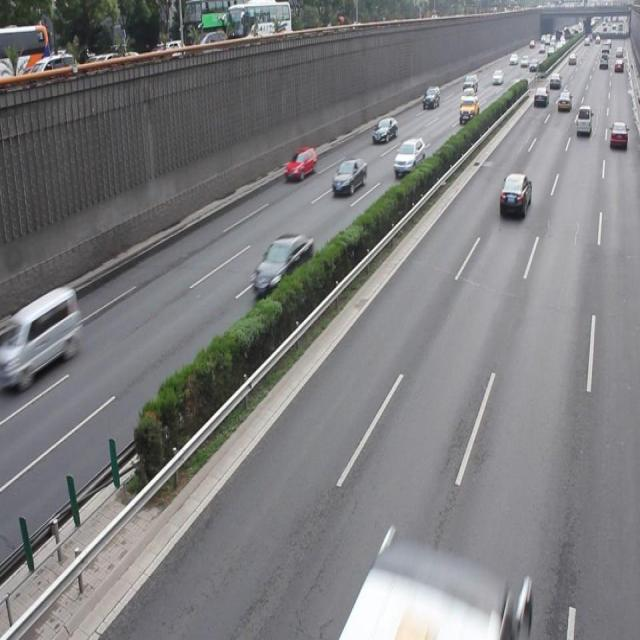car: (252, 234, 314, 295), (498, 172, 531, 217), (392, 135, 424, 179), (331, 157, 366, 196), (285, 145, 316, 182)
truck: (10, 287, 82, 387)
